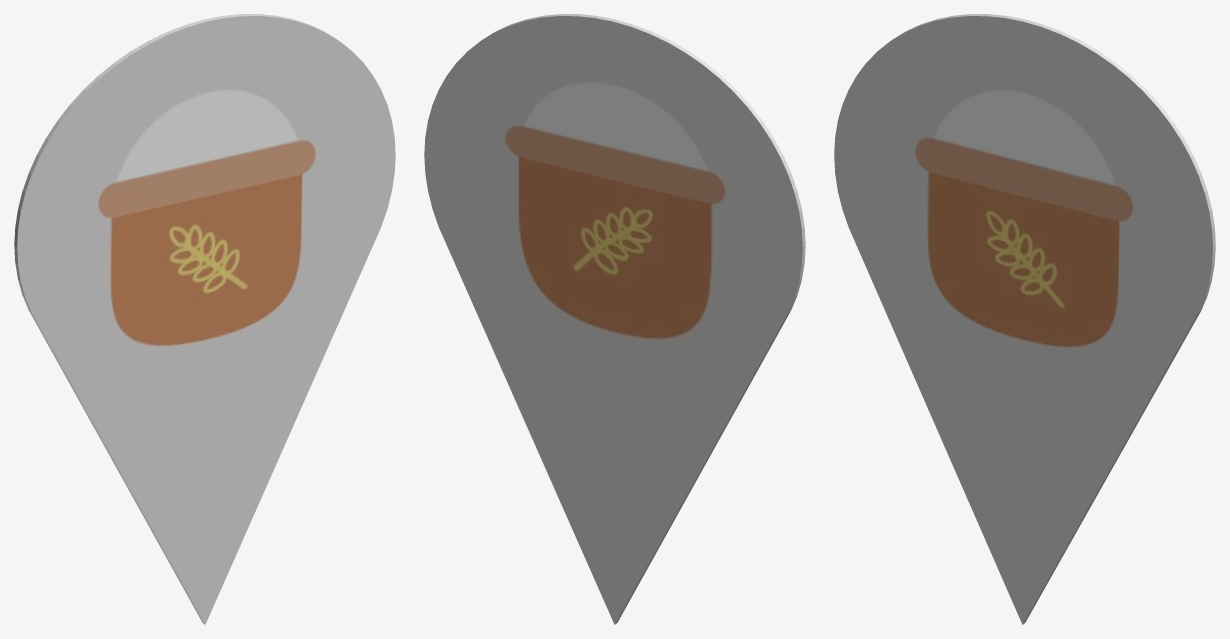
3 renders of one model, left to right at view 1: azimuth 30°, elevation 25°; view 2: azimuth 150°, elevation 25°; view 3: azimuth 330°, elevation 25°, orthographic.
Parts seen in each view (by area): view 1: Куб.002; view 2: Куб.002; view 3: Куб.002.
Part boxes in pixels (x1,y1,x2,y2): Куб.002: (14, 14, 395, 624); Куб.002: (424, 14, 805, 624); Куб.002: (834, 14, 1215, 624).
Bounding box in the file's own units: 0.5098 × 0.776 × 0.00663.
1 material, 1 textured.
